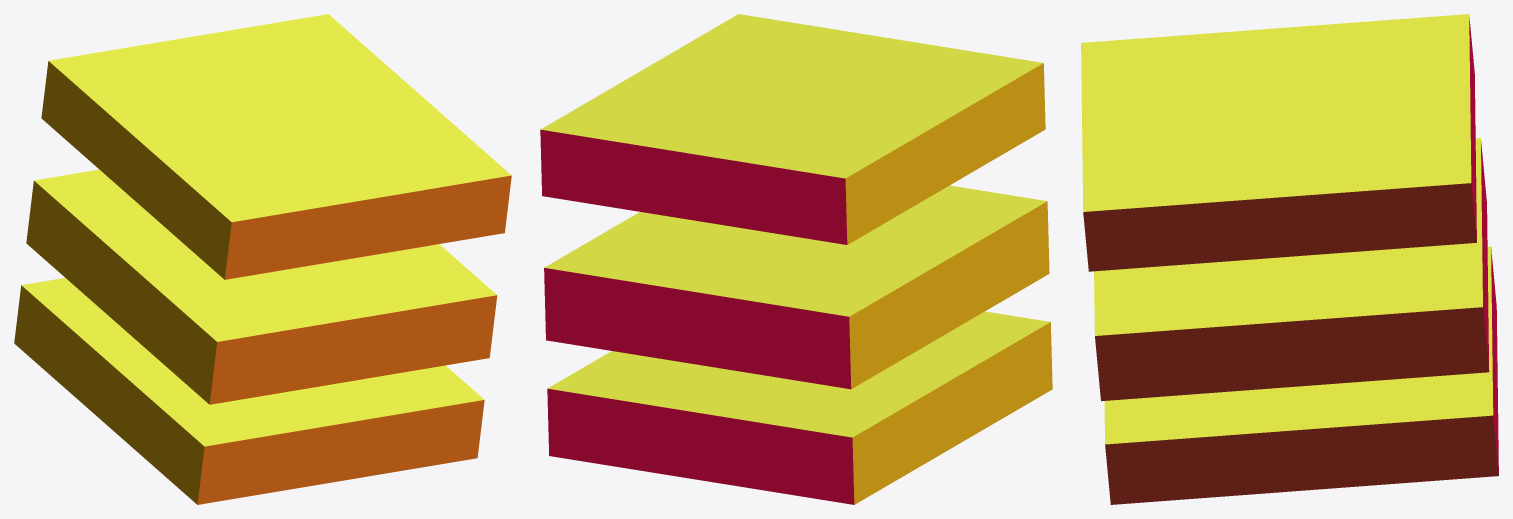
The picture shows the model from 3 angles, left to right: view 1: azimuth 30°, elevation 25°; view 2: azimuth 150°, elevation 25°; view 3: azimuth 270°, elevation 25°; orthographic projection. The views are drawn at different scales.
Parts seen in each view (by area): view 1: SketchUp (×9); view 2: SketchUp (×9); view 3: SketchUp (×9).
Boxes of the visible parts, x1,y1,x2,y2 form: SketchUp (×9): (14,14,511,504); SketchUp (×9): (540,14,1052,504); SketchUp (×9): (1081,14,1498,504).
Bounding box in the file's own units: 44.15 × 49.93 × 47.02.
